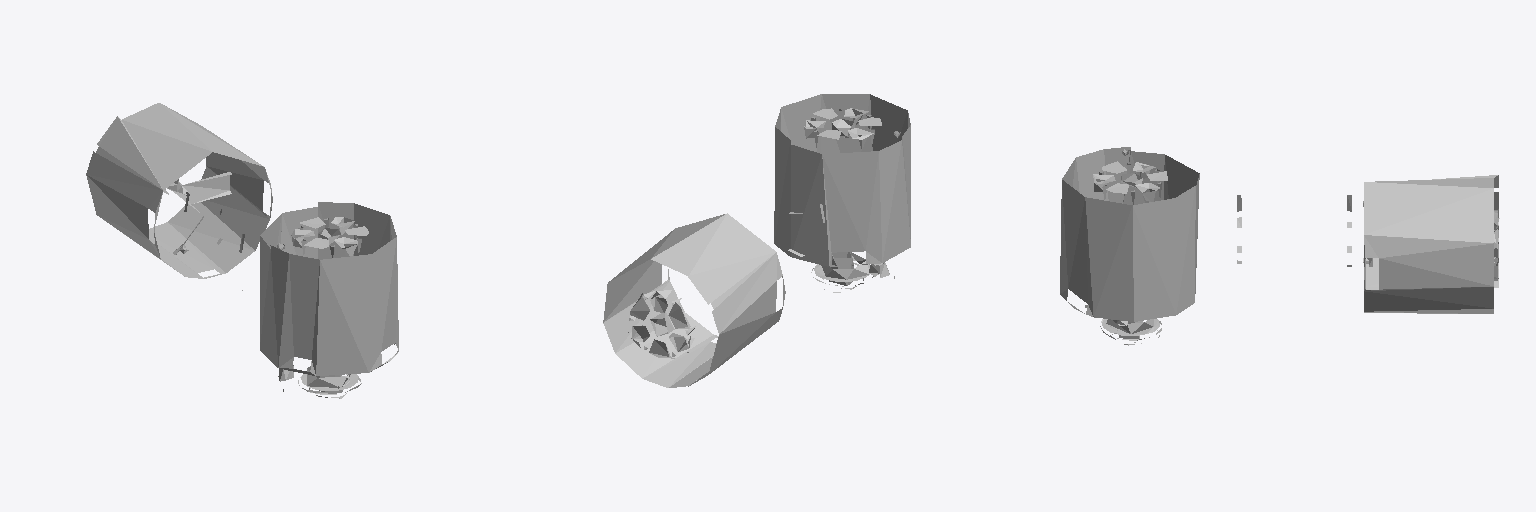
3 renders of one model, left to right at view 1: azimuth 30°, elevation 25°; view 2: azimuth 150°, elevation 25°; view 3: azimuth 270°, elevation 25°, orthographic.
Visible parts, largest first — view 1: link3_0; view 2: link3_0; view 3: link3_0.
Boxes of the visible parts, x1=… form: link3_0: x1=86, y1=103, x2=398, y2=398; link3_0: x1=603, y1=94, x2=910, y2=387; link3_0: x1=1060, y1=147, x2=1499, y2=345.
Size of the model in its own units: 58.46 by 74.15 by 184.